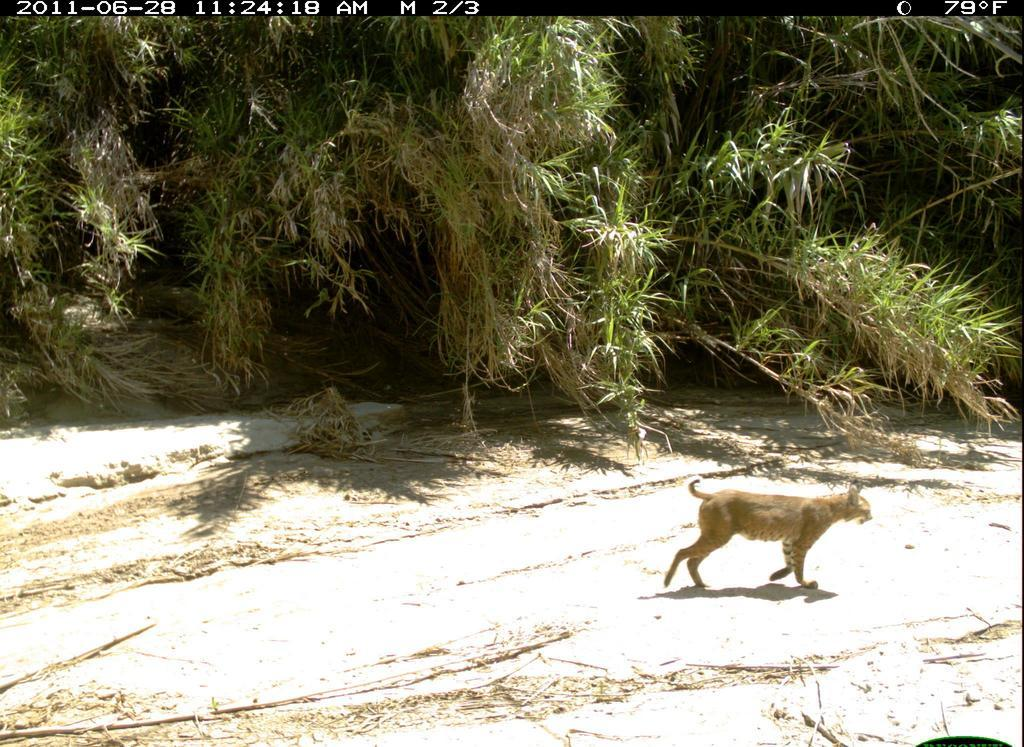bobcat: (661, 468, 880, 612)
